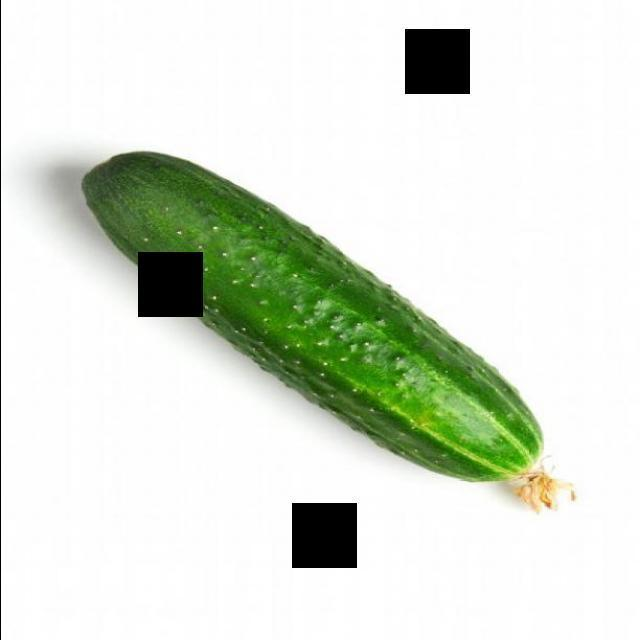cucumber: (74, 146, 548, 486)
